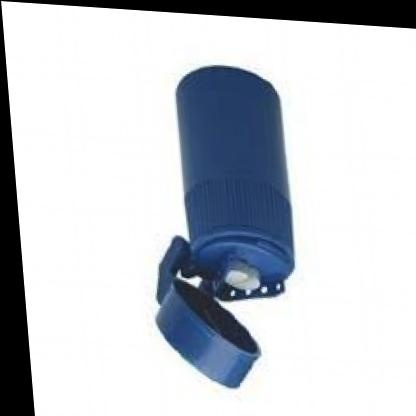trash: (156, 66, 293, 386), (176, 66, 293, 299)
